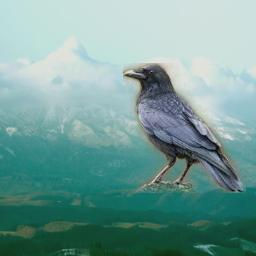Crow: (123, 63, 246, 193)
